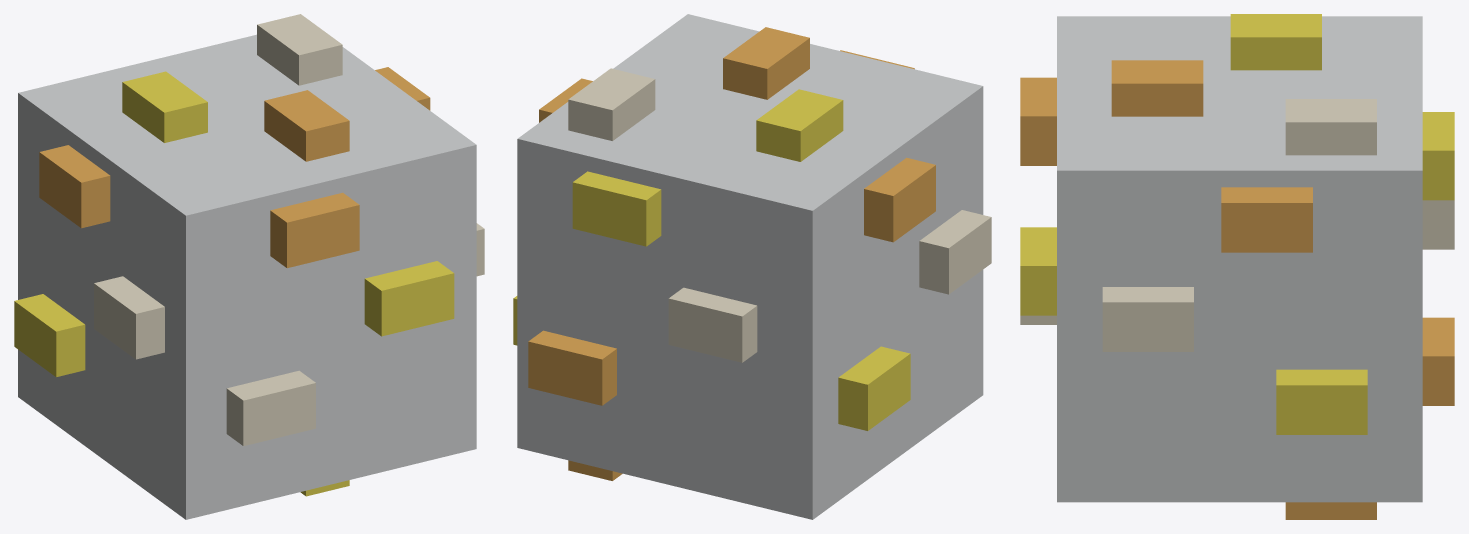
The model's file is sulfur.glb.
3 renders of one model, left to right at view 1: azimuth 30°, elevation 25°; view 2: azimuth 150°, elevation 25°; view 3: azimuth 270°, elevation 25°, orthographic. The views are drawn at different scales.
Parts seen in each view (by area): view 1: Mesh_Mesh_head_geo.001_lambert2SG.001; view 2: Mesh_Mesh_head_geo.001_lambert2SG.001; view 3: Mesh_Mesh_head_geo.001_lambert2SG.001.
Boxes of the visible parts, left/top/right/bottom form: Mesh_Mesh_head_geo.001_lambert2SG.001: left=14, top=14, right=484, bottom=519; Mesh_Mesh_head_geo.001_lambert2SG.001: left=513, top=14, right=991, bottom=519; Mesh_Mesh_head_geo.001_lambert2SG.001: left=1020, top=14, right=1454, bottom=519.
Bounding box in the file's own units: 2.4 × 2.4 × 2.37.
